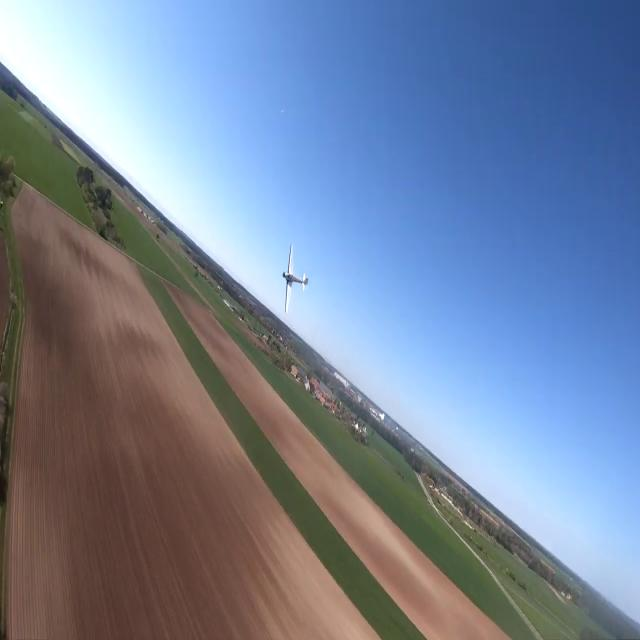iha: (277, 271, 308, 276)
